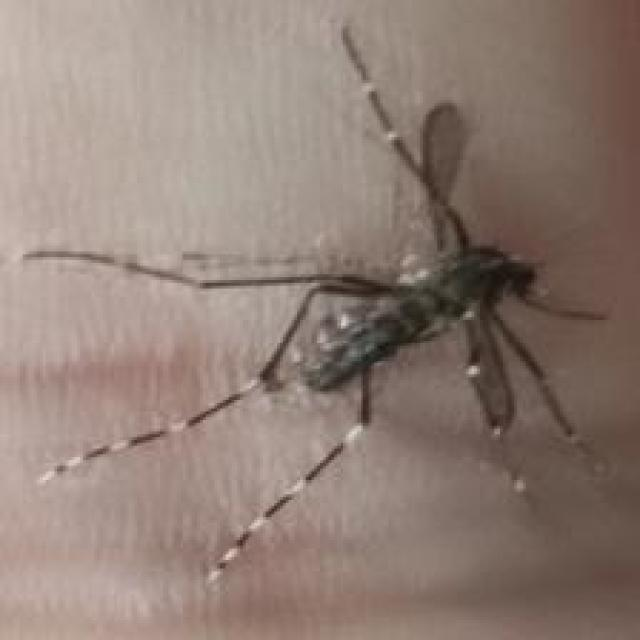Aedes albopictus: (21, 20, 616, 591)
